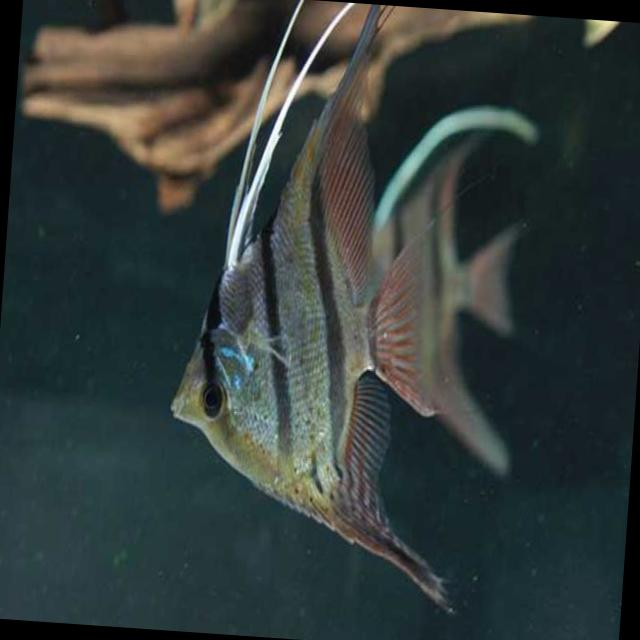AngelFish: (158, 0, 495, 619)
